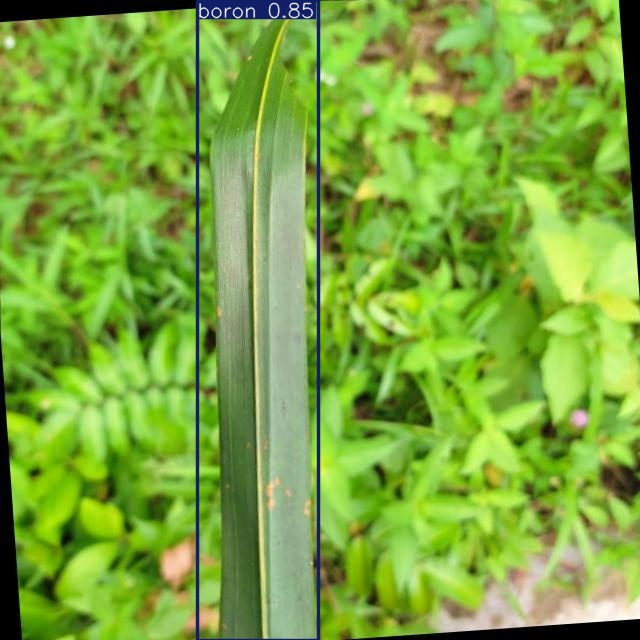nitrogen: (198, 0, 319, 640)
